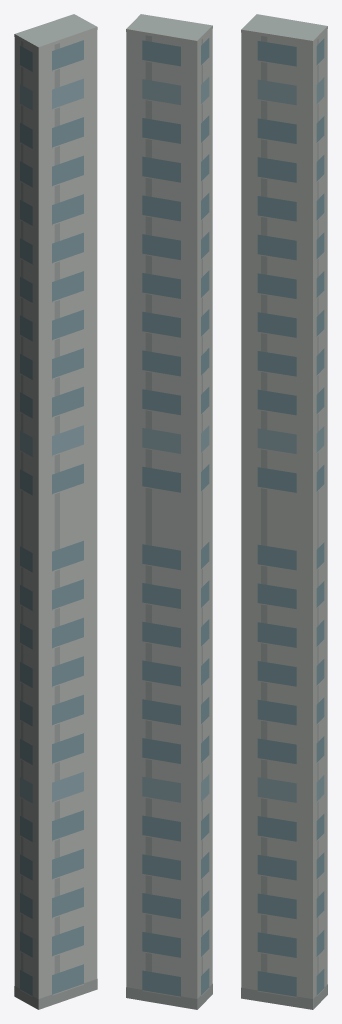
File: survey-upis-32579115.glb
3 views of the same model, side by side, from view 1: azimuth 30°, elevation 25°; view 2: azimuth 150°, elevation 25°; view 3: azimuth 330°, elevation 25° (orthographic).
Visible parts, largest first — view 1: survey-upis-32579115.tmp; view 2: survey-upis-32579115.tmp; view 3: survey-upis-32579115.tmp.
Part boxes in pixels (box(x1,y1,x2,y2)): survey-upis-32579115.tmp: box(14, 14, 97, 1009); survey-upis-32579115.tmp: box(126, 14, 212, 1009); survey-upis-32579115.tmp: box(241, 14, 327, 1009).
Size of the model in its own units: 5.77 by 76.25 by 3.63.
